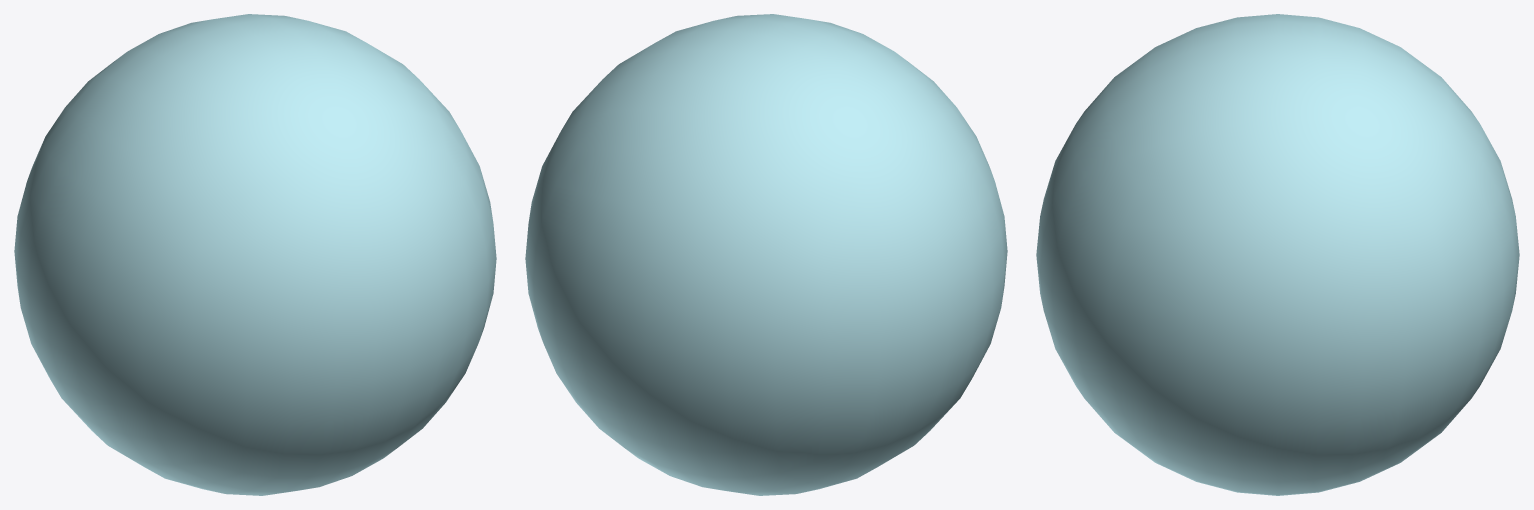
The model's file is 18_Ar_BaS.fbx.
3 views of the same model, side by side, from view 1: azimuth 30°, elevation 25°; view 2: azimuth 150°, elevation 25°; view 3: azimuth 270°, elevation 25° (orthographic).
Parts seen in each view (by area): view 1: AR.001; view 2: AR.001; view 3: AR.001.
Boxes of the visible parts, <box> form: AR.001: <box>14,14,496,495</box>; AR.001: <box>525,14,1007,495</box>; AR.001: <box>1036,14,1519,495</box>.
Size of the model in its own units: 97 by 97 by 97.
